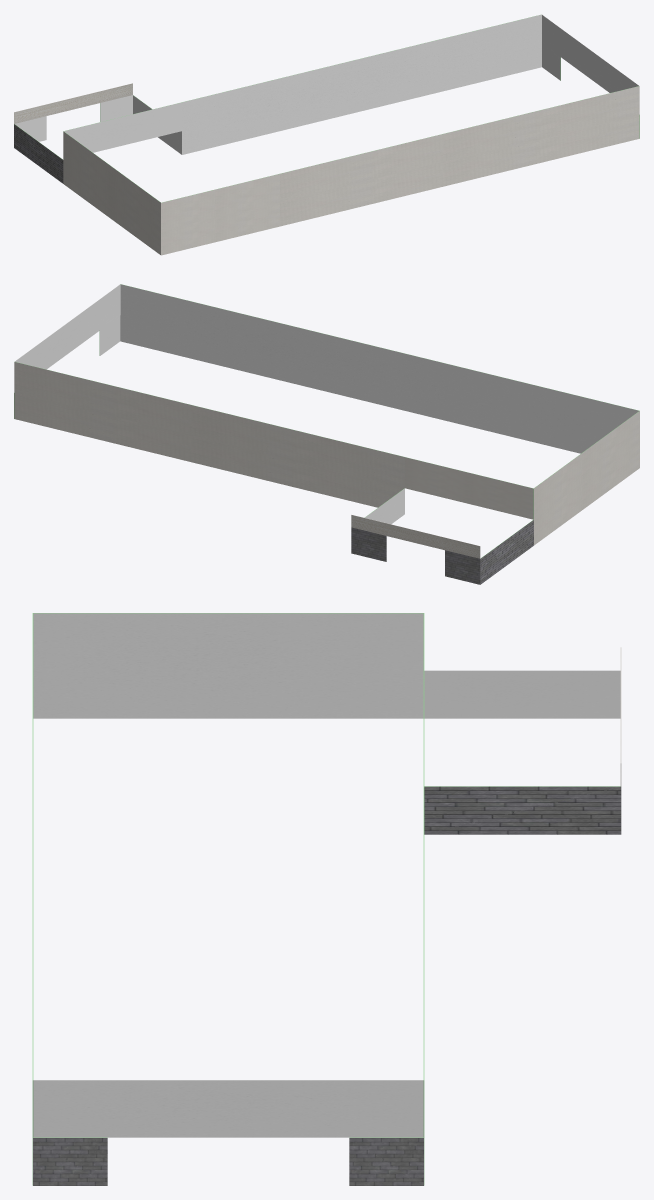
File: paredes.obj
3 views of the same model, one above another, from view 1: azimuth 30°, elevation 25°; view 2: azimuth 150°, elevation 25°; view 3: azimuth 270°, elevation 25° (orthographic). The views are drawn at different scales.
Parts seen in each view (by area): view 1: Box015, Box016, Box013, Box008, Box024, Box040, Box014, Box023, Box026, Box010, Box011, Box032; view 2: Box016, Box015, Box008, Box013, Box024, Box040, Box014, Box023, Box011, Box026, Box010, Box031; view 3: Box008, Box040, Box010, Box023, Box031, Box032, Box015, Box016.
Boxes of the visible parts, <box> form: Box015: <box>182,14,541,154</box>; Box016: <box>280,86,639,226</box>; Box013: <box>161,173,279,255</box>; Box008: <box>63,131,160,254</box>; Box024: <box>64,102,181,152</box>; Box040: <box>542,14,639,92</box>; Box014: <box>14,83,132,123</box>; Box023: <box>14,124,63,183</box>; Box026: <box>100,95,132,121</box>; Box010: <box>133,95,181,154</box>; Box011: <box>15,116,46,141</box>; Box032: <box>542,43,560,80</box>; Box016: <box>120,284,510,436</box>; Box015: <box>14,361,404,507</box>; Box008: <box>534,411,639,545</box>; Box013: <box>510,379,639,453</box>; Box024: <box>405,457,533,519</box>; Box040: <box>15,284,120,369</box>; Box014: <box>351,514,480,558</box>; Box023: <box>480,519,533,584</box>; Box011: <box>445,550,480,584</box>; Box026: <box>351,527,386,561</box>; Box010: <box>364,488,404,524</box>; Box031: <box>99,316,120,355</box>; Box008: <box>33,613,423,718</box>; Box040: <box>33,1080,423,1137</box>; Box010: <box>424,786,621,834</box>; Box023: <box>424,670,620,718</box>; Box031: <box>33,1137,107,1185</box>; Box032: <box>349,1137,423,1185</box>; Box015: <box>423,729,424,1185</box>; Box016: <box>32,729,33,1185</box>.
Size of the model in its own units: 1331 by 140 by 708.
Materials: 5 (4 with a texture image).
